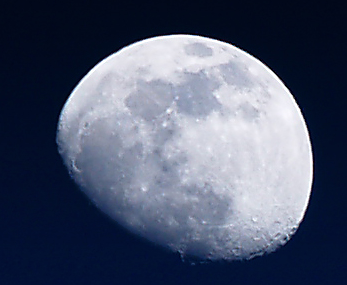crater: (177, 39, 216, 61), (246, 209, 264, 225), (136, 181, 151, 195), (77, 119, 93, 132), (271, 229, 284, 240), (225, 149, 238, 159), (191, 115, 203, 125)
